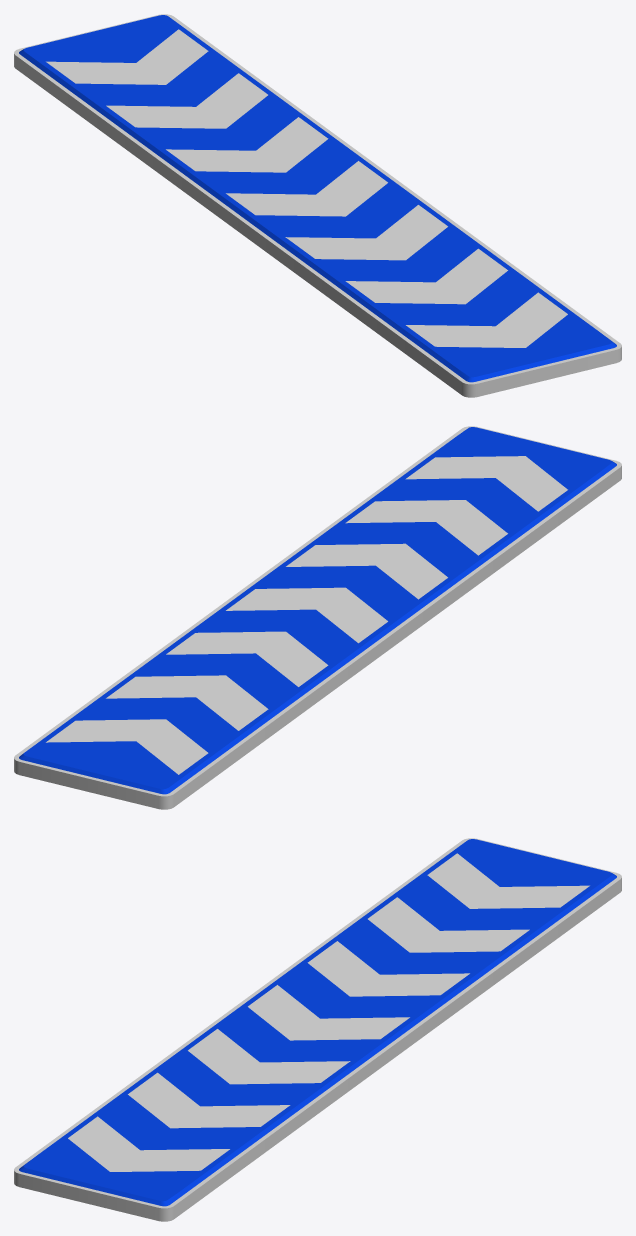
Rendered from Booster_Straight_Long.fbx.
3 renders of one model, top to bottom at view 1: azimuth 30°, elevation 25°; view 2: azimuth 150°, elevation 25°; view 3: azimuth 330°, elevation 25°, orthographic.
Visible parts, largest first — view 1: Cube; view 2: Cube; view 3: Cube.
Part boxes in pixels (x1,y1,x2,y2): Cube: (14,14,621,397); Cube: (14,426,621,809); Cube: (14,838,621,1221).
Size of the model in its own units: 200 by 19.97 by 1000.
